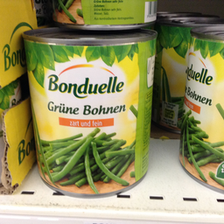beans: (22, 27, 157, 197), (173, 25, 224, 193)
